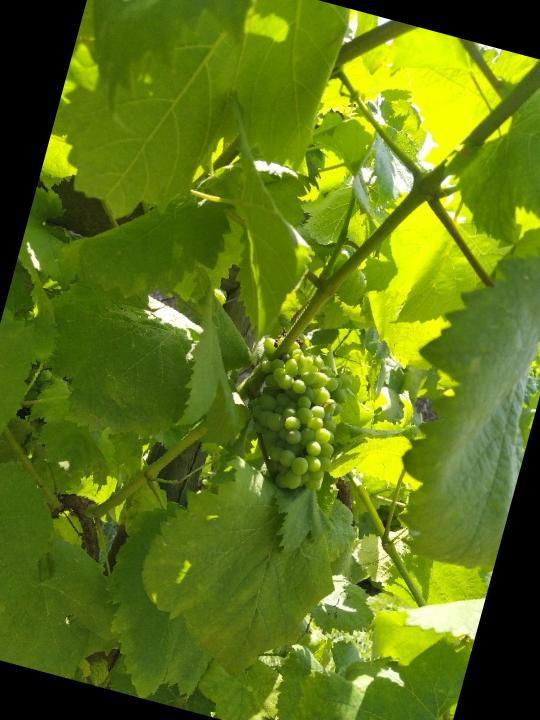grape: (226, 327, 364, 501)
